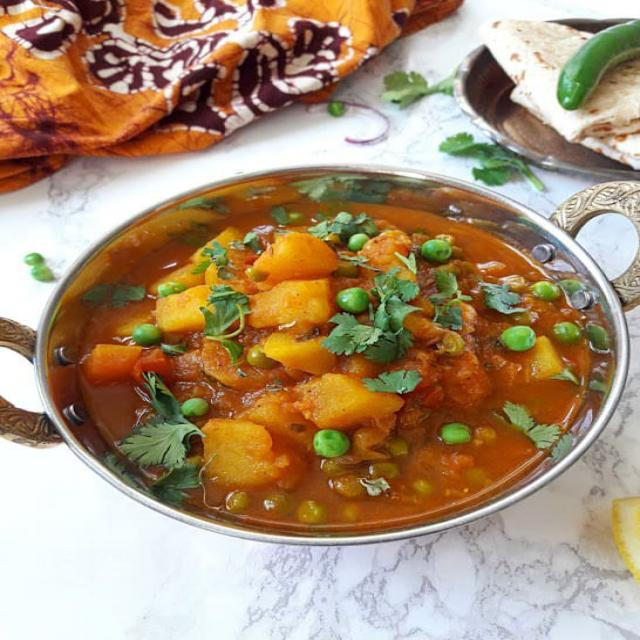Aloo Matar: (95, 202, 580, 513)
